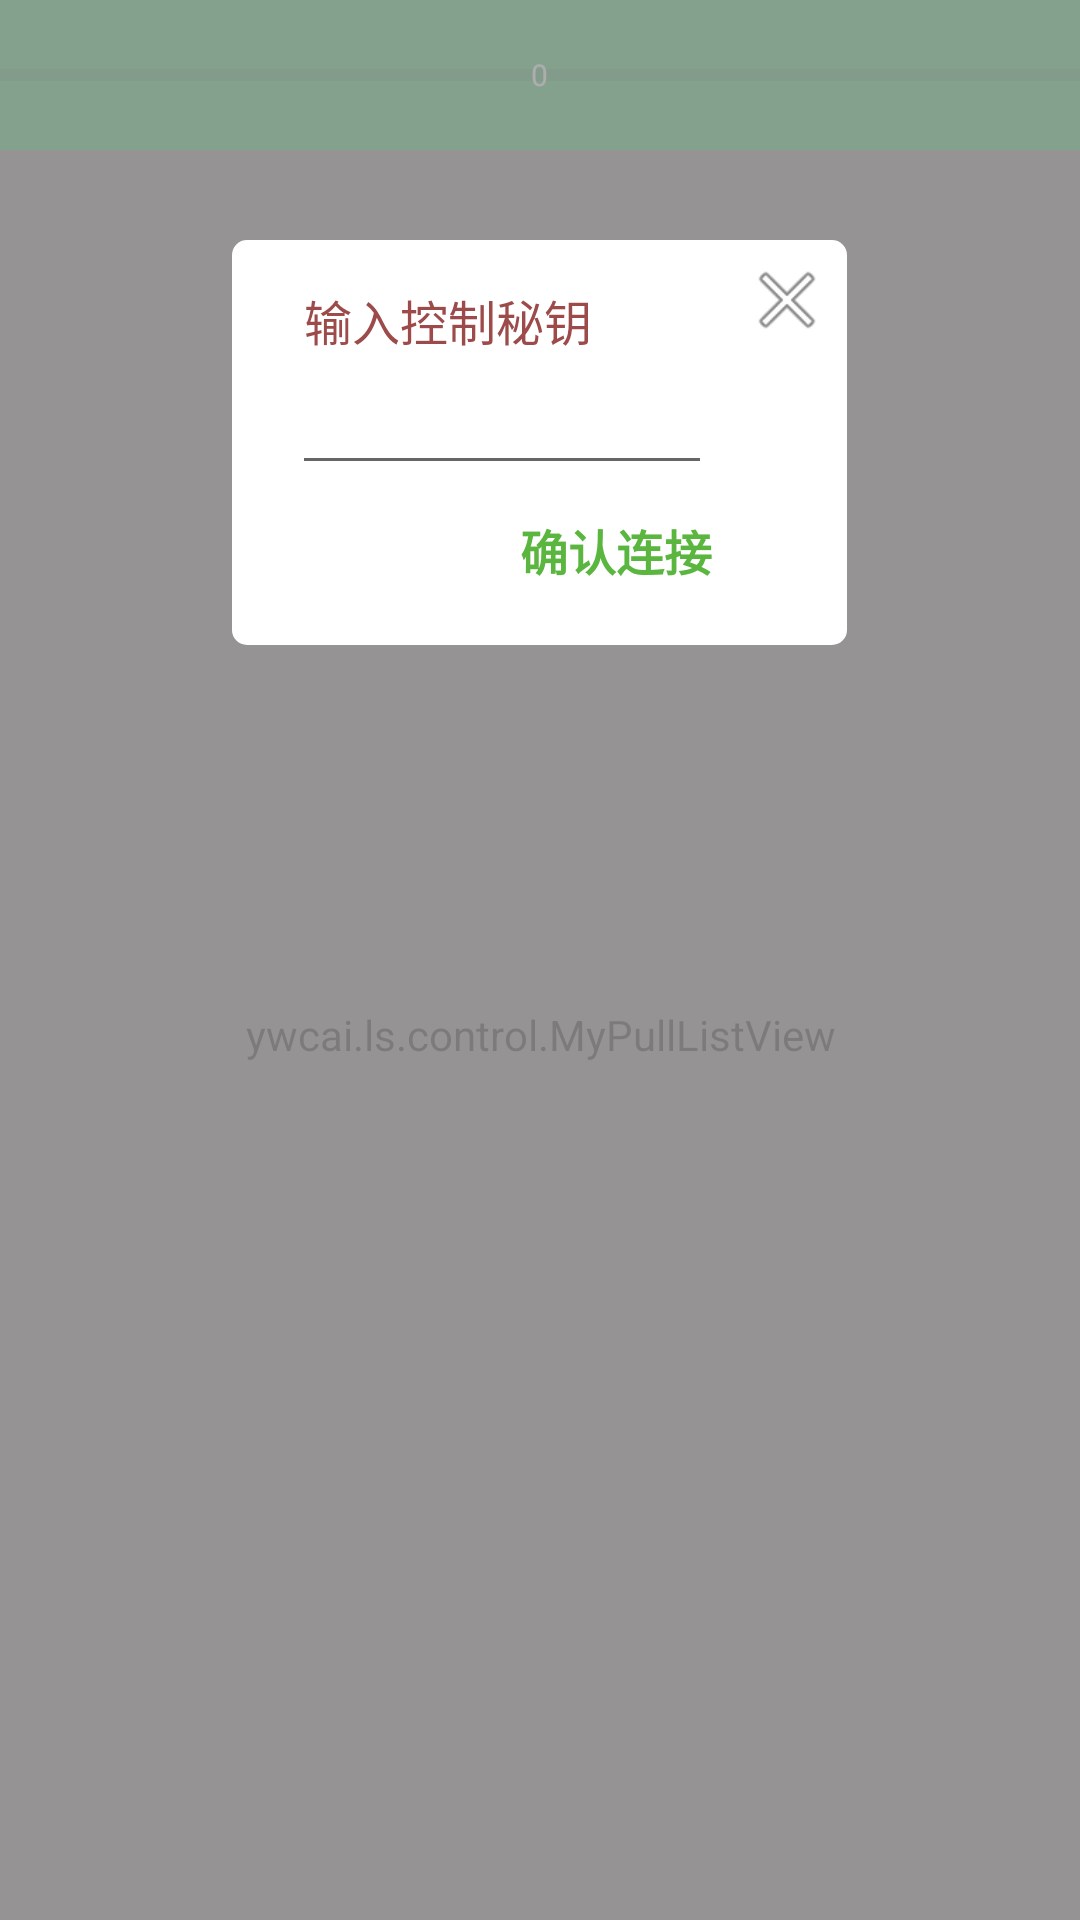

Screen size 1080w x 1920h. Icon name, then its center in pixels as [x,y]:
close clear cancel: [787,300]
